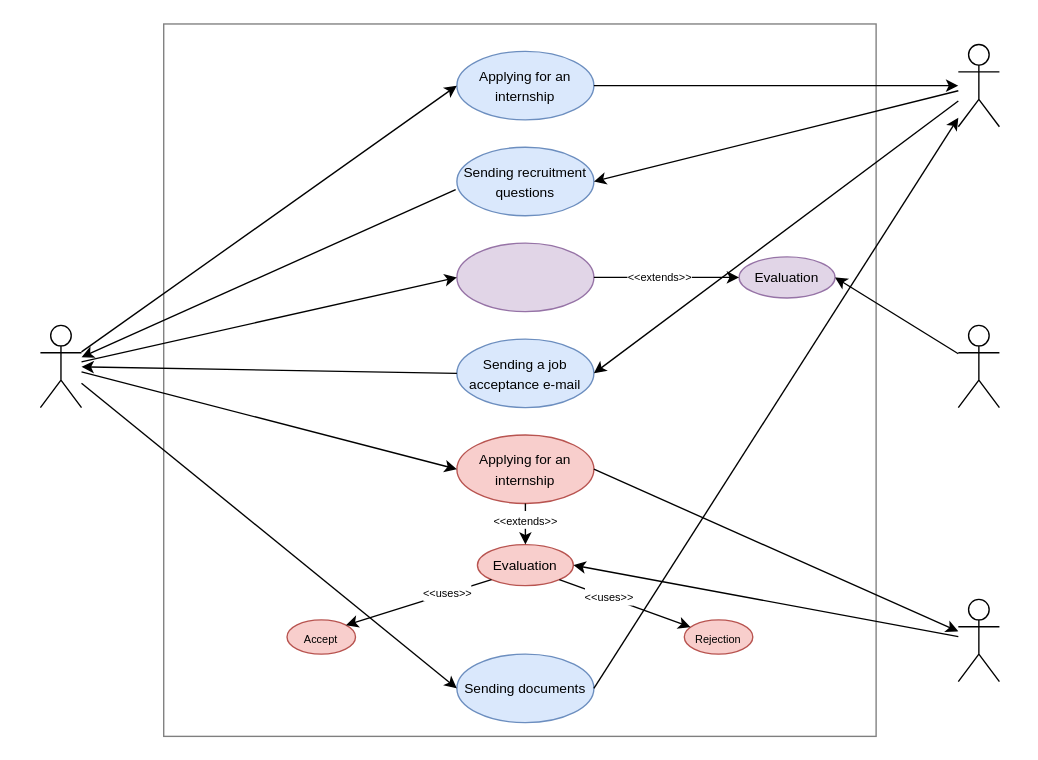
This 1038x760 diagram has some shape labels left out. The box of each missing label's shape, as (x1, y1, x2, y2) in pixels:
Answering questions: (456, 242, 594, 312)
Candidate: (39, 324, 82, 408)
Executive: (957, 324, 999, 408)
HR: (957, 43, 999, 127)
University: (957, 598, 999, 682)
